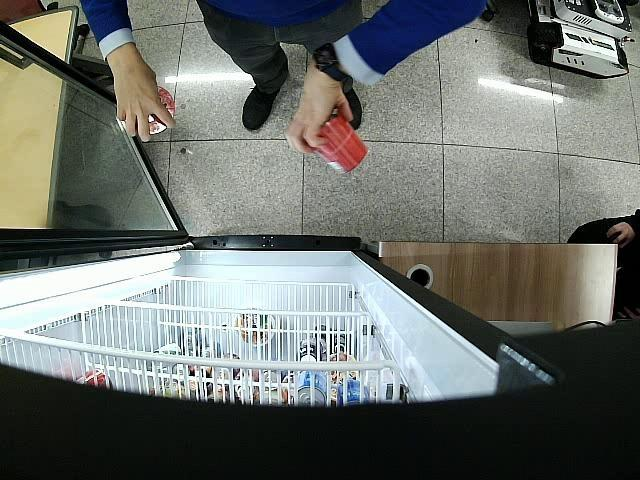02_shinRamen_S: (311, 114, 368, 174), (146, 85, 176, 134)
